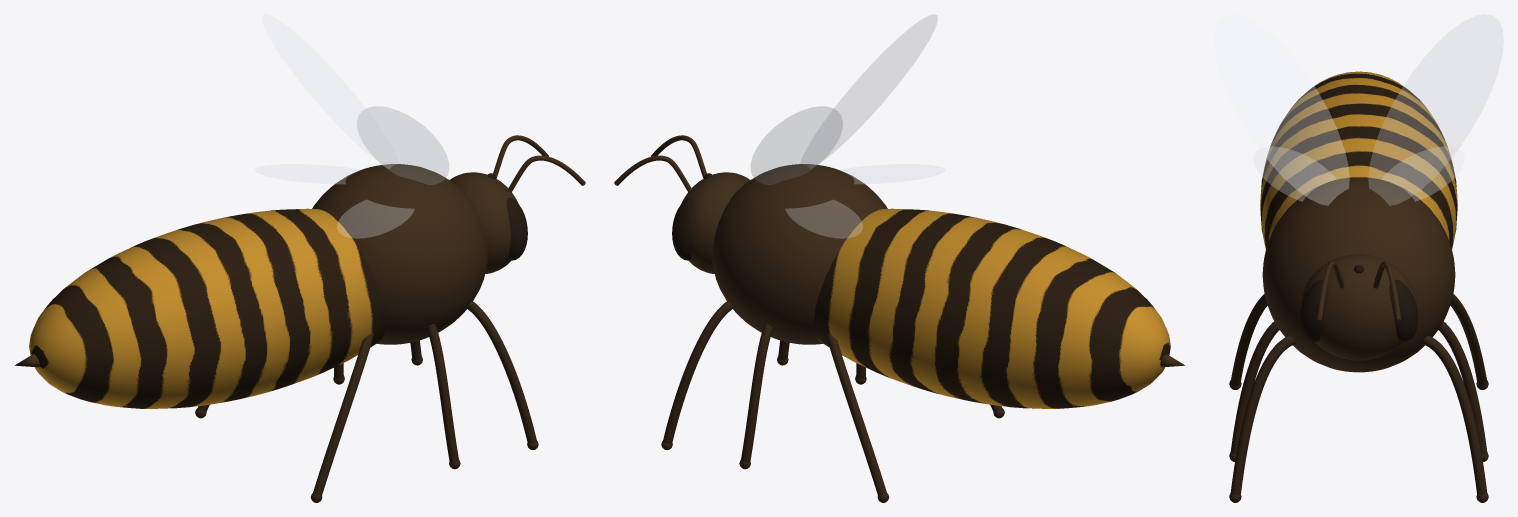
The model's file is bee-hero-queen-low.glb.
3 renders of one model, left to right at view 1: azimuth 30°, elevation 25°; view 2: azimuth 150°, elevation 25°; view 3: azimuth 270°, elevation 25°, orthographic. The views are drawn at different scales.
Parts seen in each view (by area): view 1: abdomen, thorax, foreWingL, foreWingR, head, hindWingR, hindLegR, foreLegR, hindWingL, midLegR, compoundEyeR; view 2: abdomen, thorax, foreWingR, foreWingL, head, hindWingL, hindLegL, foreLegL, hindWingR, midLegL, compoundEyeL; view 3: thorax, abdomen, foreWingL, foreWingR, head, hindWingL, hindWingR, foreLegL, foreLegR, midLegL, midLegR, compoundEyeL (+5 smaller).
Boxes of the visible parts, <box> form: abdomen: <box>29,208,385,408</box>; thorax: <box>312,164,487,344</box>; foreWingL: <box>262,14,398,168</box>; foreWingR: <box>357,106,448,184</box>; head: <box>449,172,518,273</box>; hindWingR: <box>337,200,414,238</box>; hindLegR: <box>313,333,373,495</box>; foreLegR: <box>466,301,536,443</box>; hindWingL: <box>255,164,359,183</box>; midLegR: <box>427,324,458,462</box>; compoundEyeR: <box>506,197,527,260</box>; abdomen: <box>814,208,1170,408</box>; thorax: <box>712,164,887,344</box>; foreWingR: <box>801,14,937,168</box>; foreWingL: <box>751,106,842,184</box>; head: <box>681,172,750,273</box>; hindWingL: <box>785,200,862,238</box>; hindLegL: <box>826,333,886,495</box>; foreLegL: <box>663,301,733,443</box>; hindWingR: <box>840,164,944,183</box>; midLegL: <box>741,324,772,462</box>; compoundEyeL: <box>672,197,693,260</box>; thorax: <box>1262,177,1455,372</box>; abdomen: <box>1260,71,1457,248</box>; foreWingL: <box>1368,14,1503,205</box>; foreWingR: <box>1214,14,1349,205</box>; head: <box>1301,254,1416,360</box>; hindWingL: <box>1382,147,1464,201</box>; hindWingR: <box>1253,147,1335,201</box>; foreLegL: <box>1421,335,1487,495</box>; foreLegR: <box>1230,335,1296,495</box>; midLegL: <box>1438,321,1487,454</box>; midLegR: <box>1230,321,1279,454</box>; compoundEyeL: <box>1389,279,1418,341</box>.
Bounding box in the file's own units: 1.66 × 1.09 × 0.7035.
5 materials, 1 textured.
